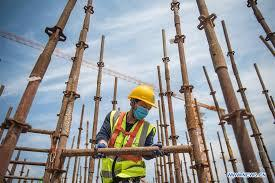safe person: (93, 84, 161, 176)
